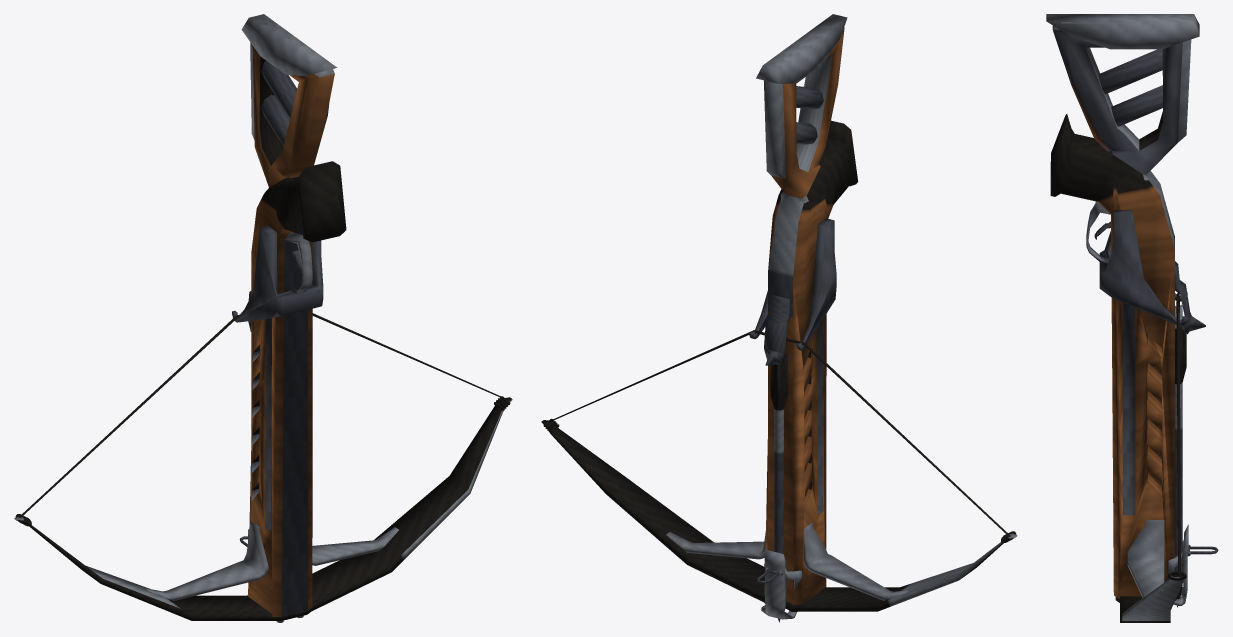
File: ImprovedCrossBowDrawn.fbx
3 views of the same model, side by side, from view 1: azimuth 30°, elevation 25°; view 2: azimuth 150°, elevation 25°; view 3: azimuth 270°, elevation 25° (orthographic). The views are drawn at different scales.
Visible parts, largest first — view 1: ICDrawn; view 2: ICDrawn; view 3: ICDrawn.
Boxes of the visible parts, x1,y1,x2,y2 form: ICDrawn: (14, 14, 512, 622); ICDrawn: (541, 14, 1017, 622); ICDrawn: (1046, 14, 1218, 622).
Bounding box in the file's own units: 0.4907 × 0.5549 × 0.1466.
